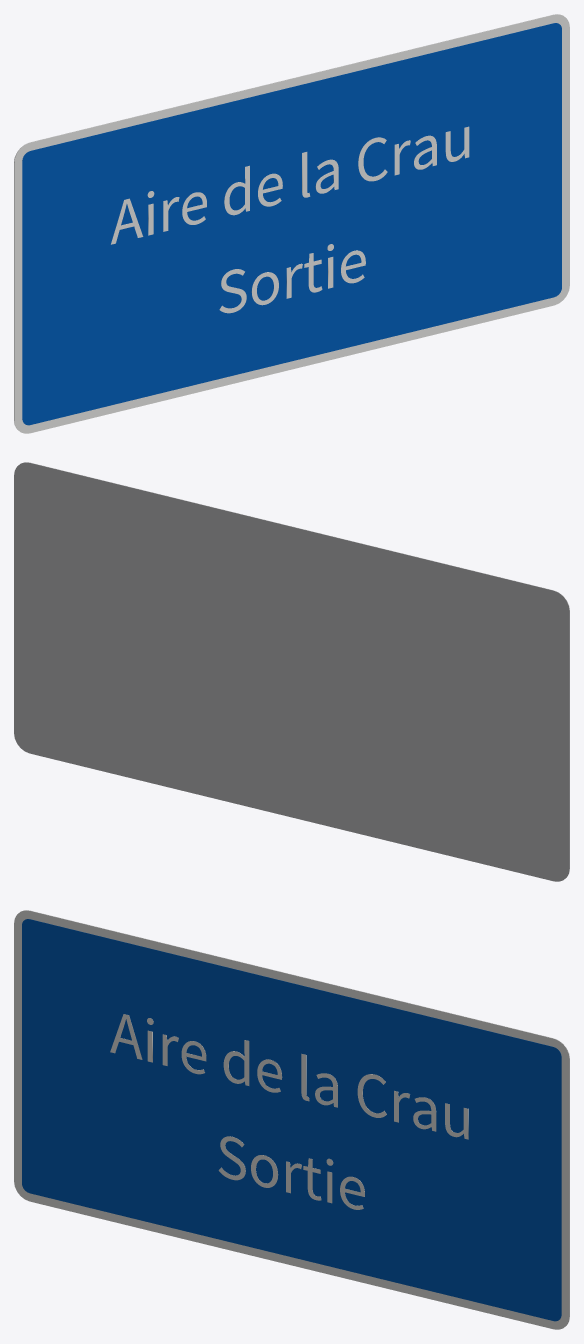
The picture shows the model from 3 angles, top to bottom: view 1: azimuth 30°, elevation 25°; view 2: azimuth 150°, elevation 25°; view 3: azimuth 330°, elevation 25°; orthographic projection.
Visible parts, largest first — view 1: E34b_fond01, E34b_cadre00, E34b_txt02, E34b_txt03, E34b_dos; view 2: E34b_dos; view 3: E34b_fond01, E34b_cadre00, E34b_txt02, E34b_txt03, E34b_dos.
Boxes of the visible parts, bbox=[...] form: E34b_fond01: bbox=[22, 23, 561, 425]; E34b_cadre00: bbox=[14, 14, 569, 433]; E34b_txt02: bbox=[111, 126, 469, 244]; E34b_txt03: bbox=[219, 244, 365, 313]; E34b_dos: bbox=[14, 14, 560, 428]; E34b_dos: bbox=[14, 462, 569, 881]; E34b_fond01: bbox=[22, 919, 561, 1321]; E34b_cadre00: bbox=[14, 910, 569, 1329]; E34b_txt02: bbox=[110, 1014, 468, 1139]; E34b_txt03: bbox=[218, 1136, 364, 1209]; E34b_dos: bbox=[23, 910, 569, 1324].
Bounding box in the file's own units: 1.4 × 0.7 × 0.0029.
